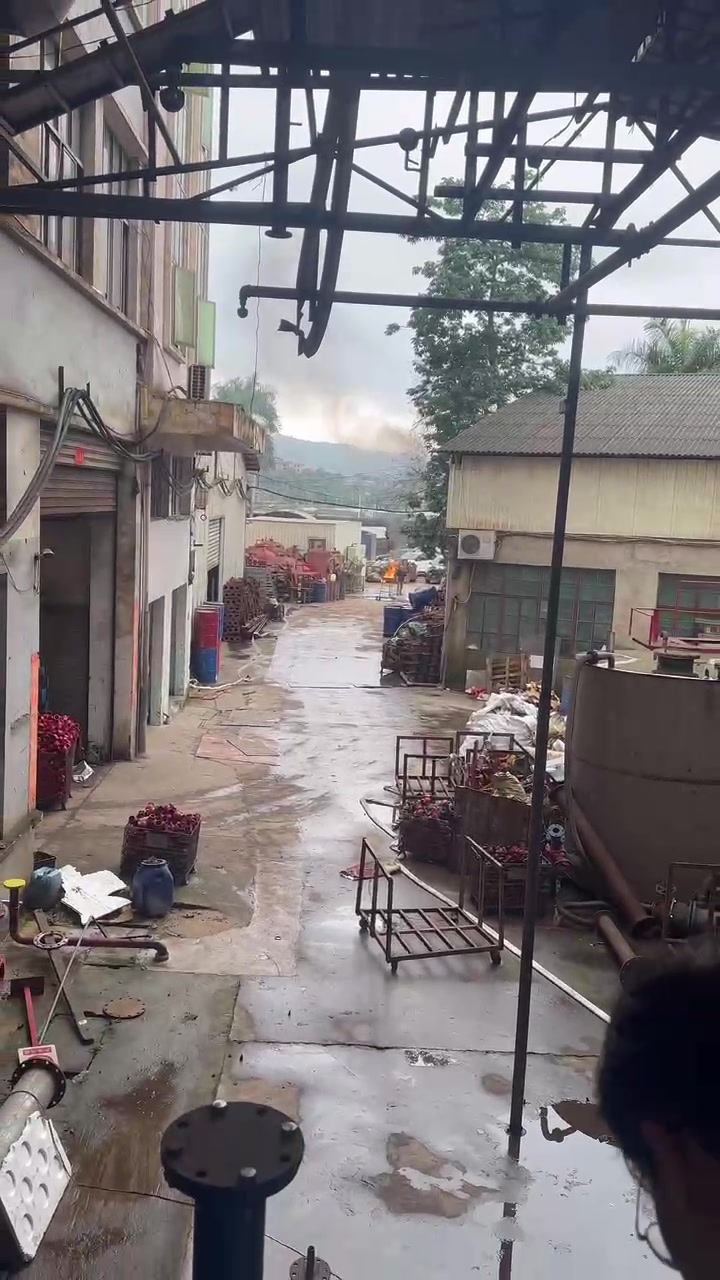fire: (383, 566, 395, 577)
